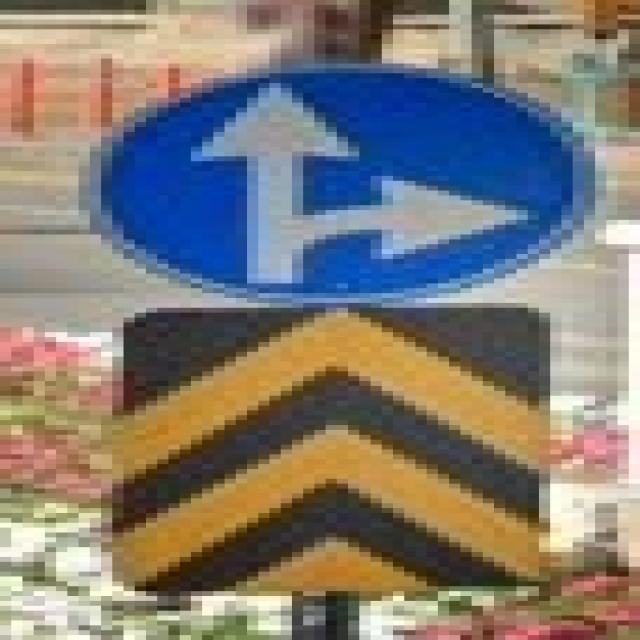Straight or Right: (102, 67, 574, 301)
